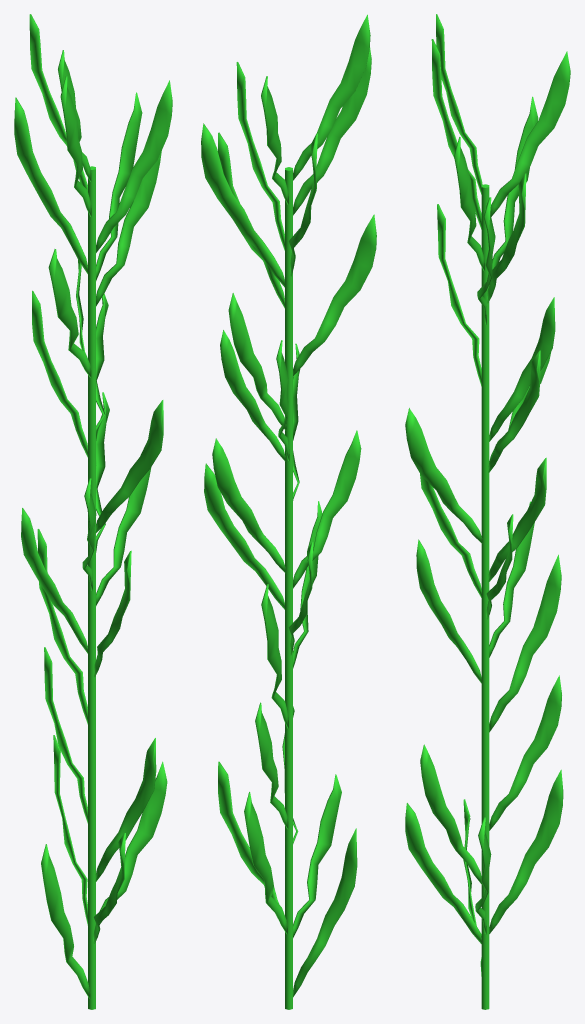
The model's file is kelp_1.fbx.
The picture shows the model from 3 angles, left to right: view 1: azimuth 30°, elevation 25°; view 2: azimuth 150°, elevation 25°; view 3: azimuth 270°, elevation 25°; orthographic projection. The views are drawn at different scales.
Visible parts, largest first — view 1: Stem; view 2: Stem; view 3: Stem.
Part boxes in pixels (x1=…): Stem: x1=14, y1=14, x2=172, y2=1009; Stem: x1=201, y1=14, x2=376, y2=1009; Stem: x1=405, y1=14, x2=570, y2=1009.
Size of the model in its own units: 172 by 1178 by 183.
